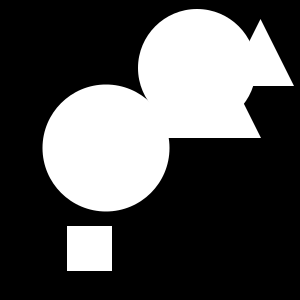circle: (67, 226, 112, 271)
rectangle: (42, 84, 169, 212), (138, 9, 256, 127)
triangle: (132, 9, 261, 138), (227, 19, 294, 86)
